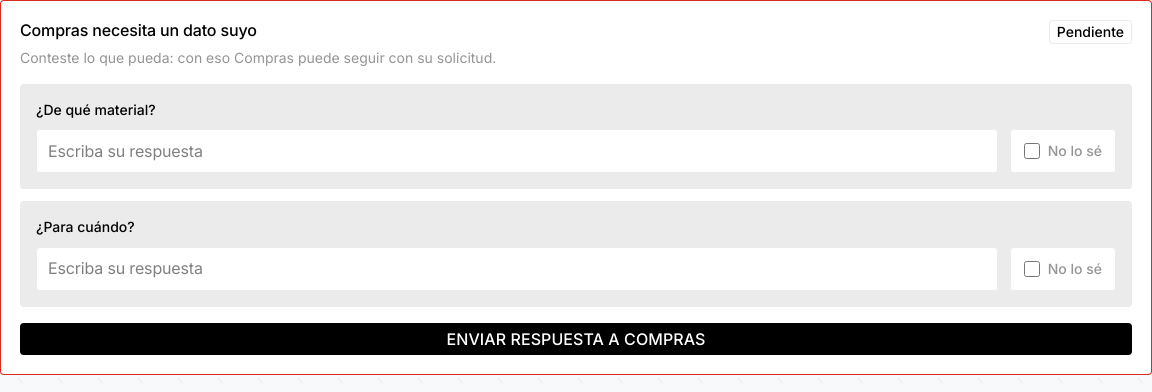
Test: ResponderPreguntas › mientras se está enviando, el botón no admite un segundo envío
Click the button "Enviar respuesta a Compras": (576, 339) [20,323,1132,355]
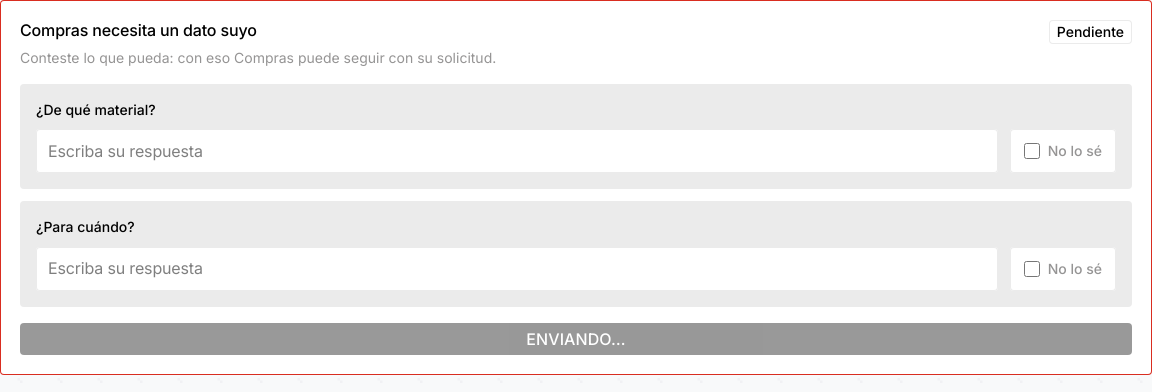
Result: the button "Enviando…" is disabled at [20,323,1132,355]
